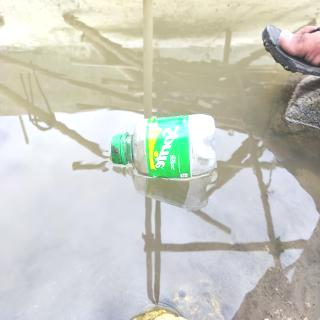bottle: (110, 110, 218, 182)
